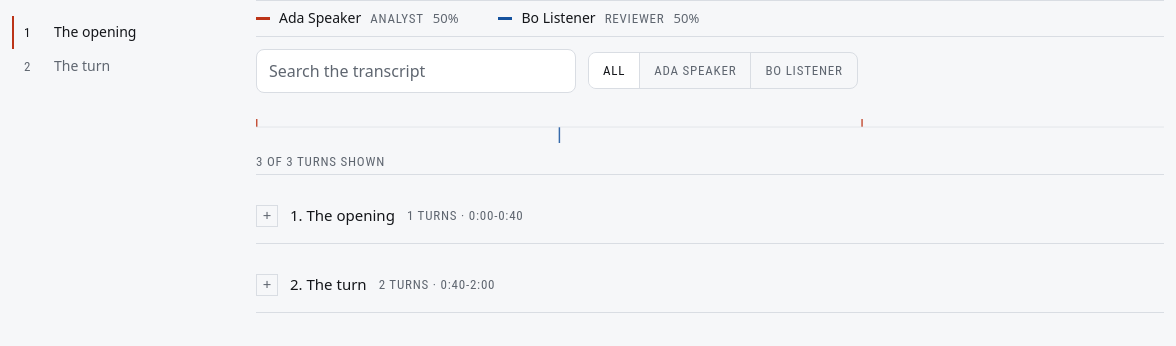
Test: the reader › filters by speaker
The width and height of the screenshot is (1176, 346).
Click the button "Bo Listener": x=804, y=71 [751,53,857,88]
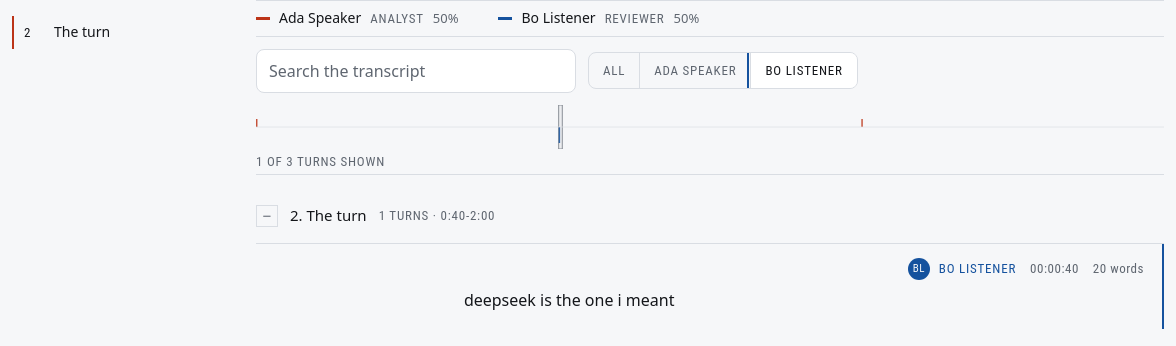
Now the text "1 of 3 turns shown" is shown, box [256,154,385,169]
Click the button "All": x=615, y=71 [589,53,640,88]
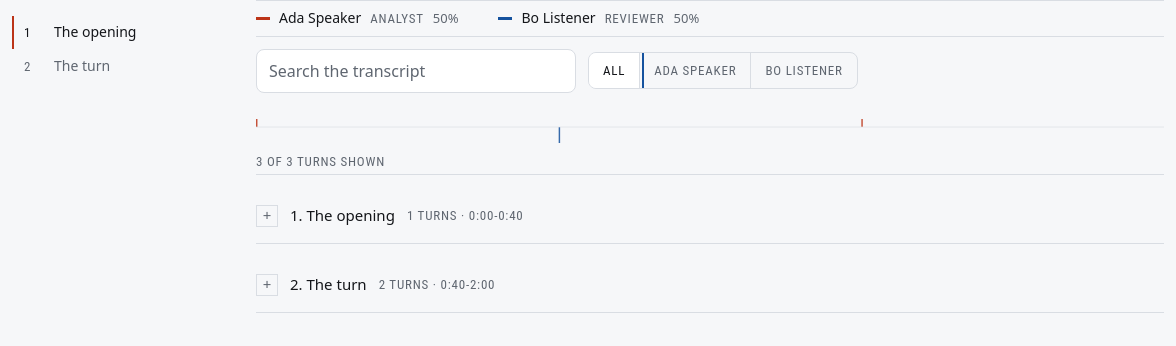
Now the text "3 of 3 turns shown" is shown, box [256,154,385,169]
